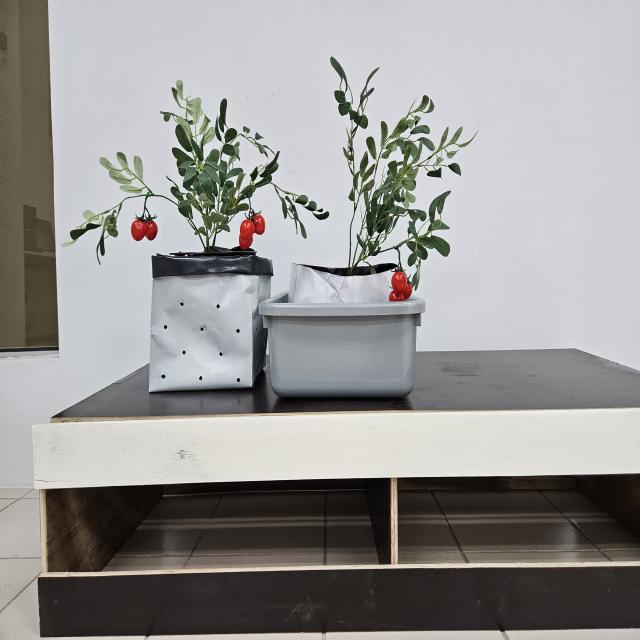Soilbag: (149, 255, 273, 389), (287, 262, 398, 355)
Tomato: (130, 199, 159, 245), (237, 215, 267, 250), (387, 272, 414, 304)
plant: (61, 80, 280, 257), (330, 57, 477, 303)
